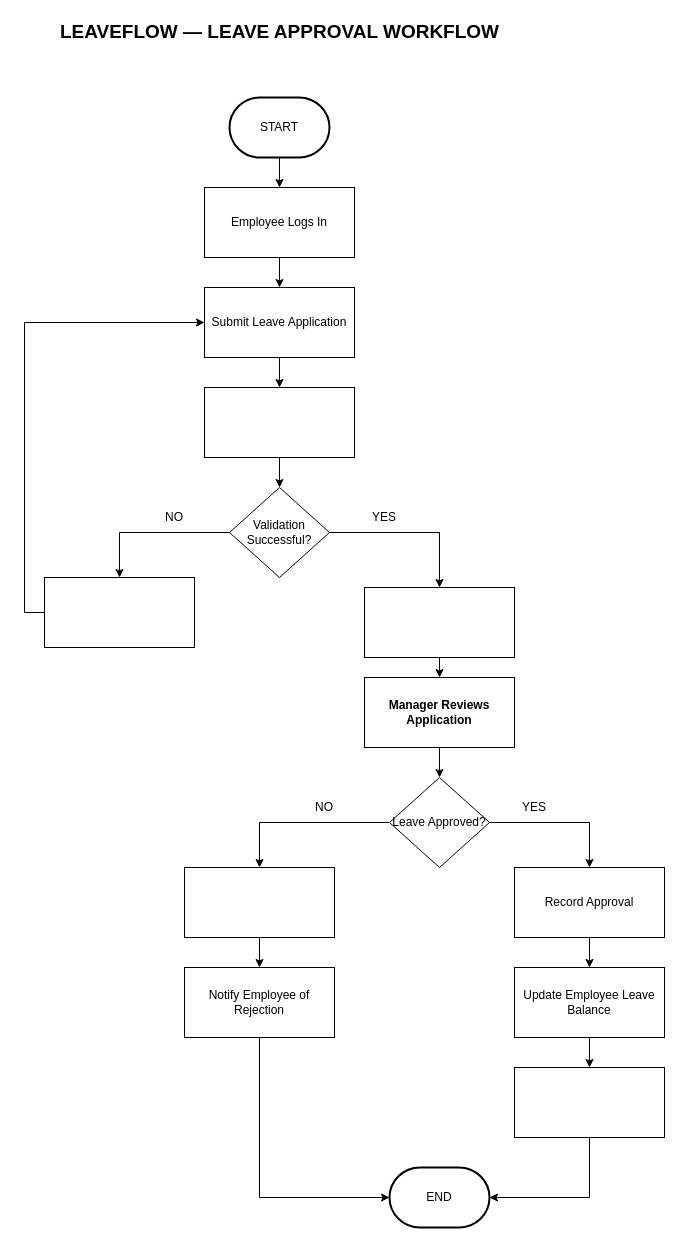
Image size: 682x1245. Some labels were removed from this diagram. The box of each missing label's shape, as (x1, y1, x2, y2) in pixels:
Display Validation Error: (44, 576, 194, 648)
Notify Employee of Approval: (514, 1066, 664, 1138)
Record Rejection Reason: (184, 866, 334, 938)
Send to Manager for Review: (364, 586, 514, 658)
Validate Leave Application: (204, 386, 354, 458)
